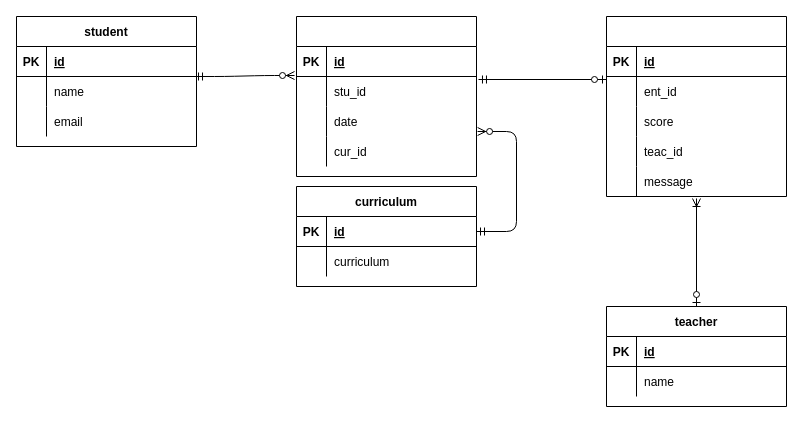
This 803x423 diagram has some shape labels left out. The box of each missing label's shape, as (x1, y1, x2, y2) in pixels:
entry: (296, 16, 476, 176)
test: (606, 16, 786, 196)
